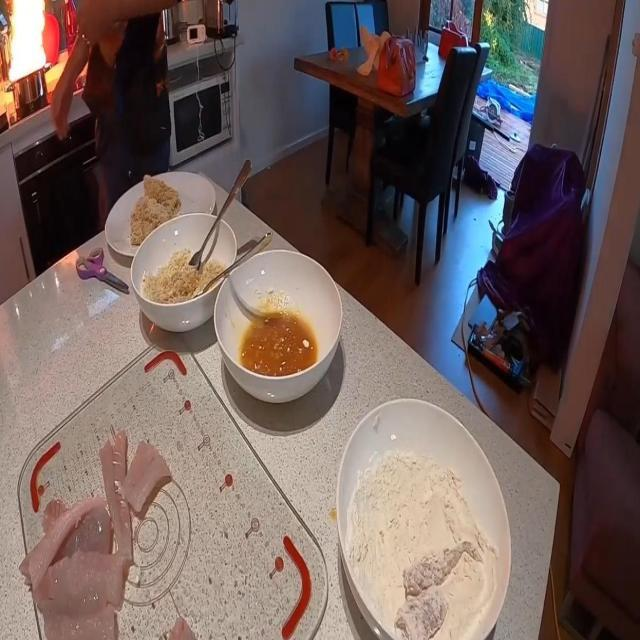smoke: (1, 0, 51, 87)
